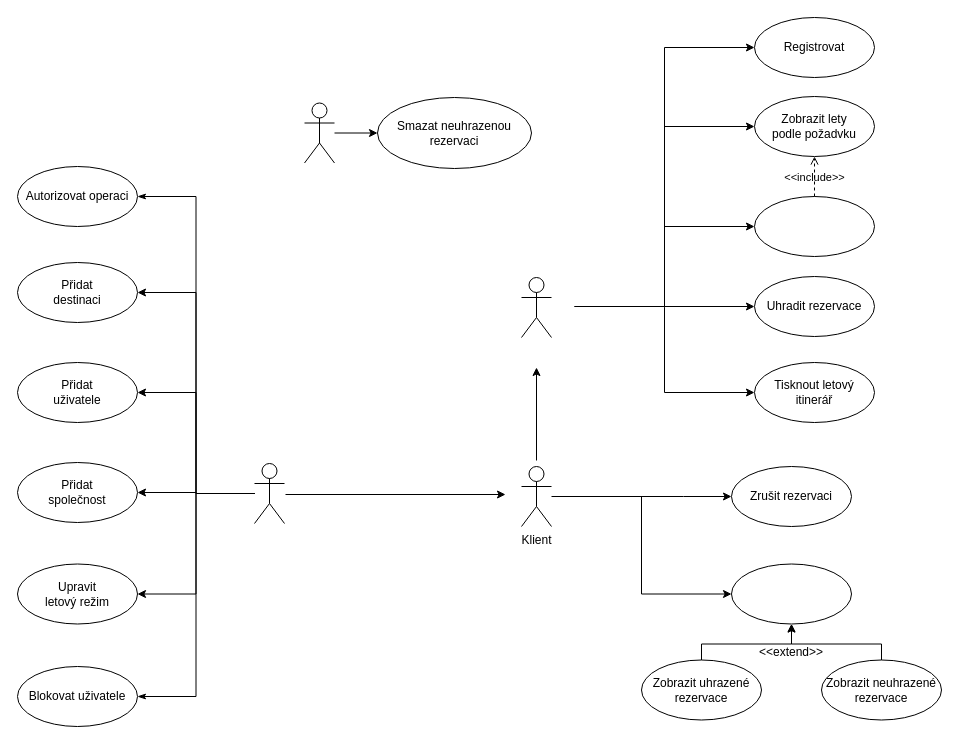
The diagram is 959 pixels wide and 744 high, and some of its shapes have lost their labels. Each missing label, with the centre of its shape:
Anonymní uživatel: the point at 536,307
Rezervovat letenku: the point at 814,226
Správce: the point at 269,493
Zobrazit rezervace: the point at 791,593
Čas: the point at 319,132
